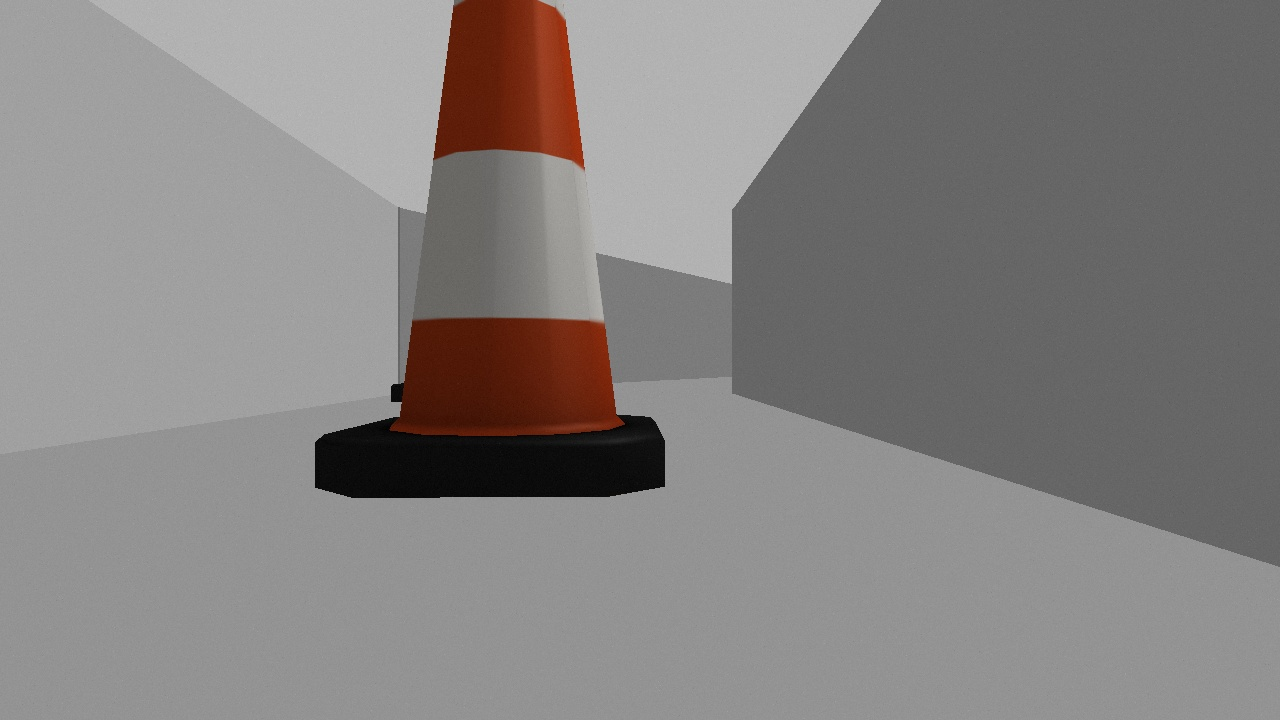barricade: (313, 1, 663, 499)
